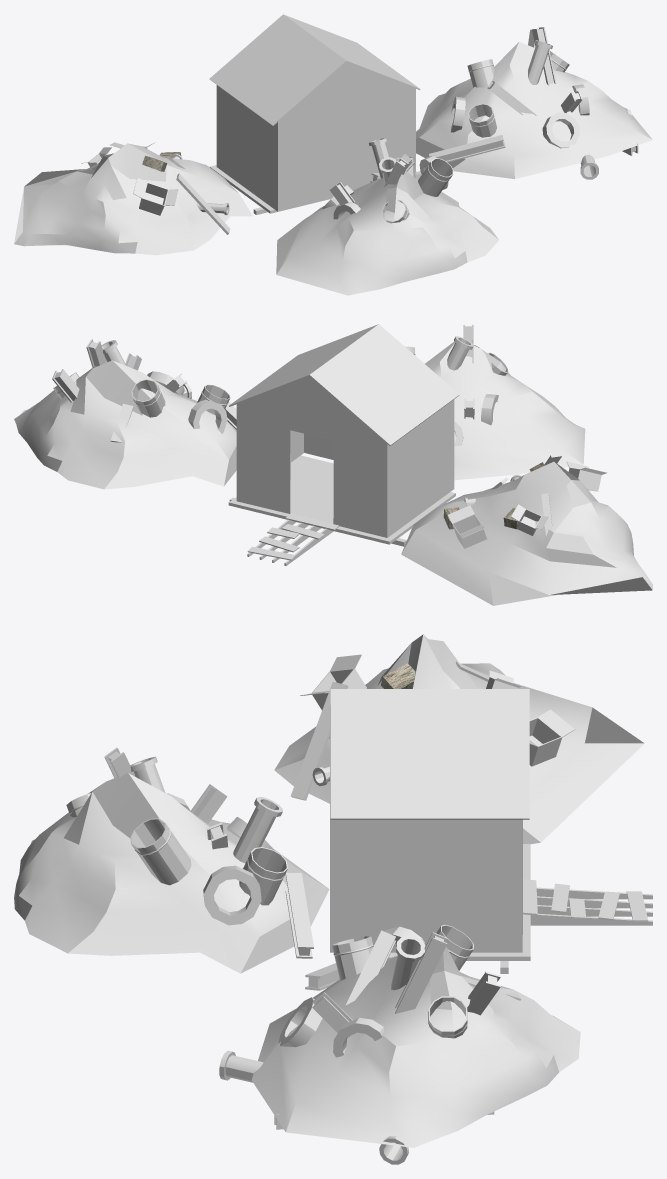
Rendered from CasaAbandonada2.fbx.
3 renders of one model, top to bottom at view 1: azimuth 30°, elevation 25°; view 2: azimuth 150°, elevation 25°; view 3: azimuth 270°, elevation 25°, orthographic. The views are drawn at different scales.
Parts seen in each view (by area): view 1: Cube.017, Cube.074, Cube.073, Cube.075, Techo, Cube.041, Cube.029, Cube.059, Cube.031, Cube.025, Cube.023, Cube.027 (+5 smaller); view 2: Cube.017, Cube.073, Cube.075, Cube.074, Techo, Cube.001, Cube.042, Cube.027, Cube.030, Cube.040, Cube.041, Cube.055 (+2 smaller); view 3: Cube.075, Cube.074, Techo, Cube.017, Cube.073, Cube.059, Cube.062, Cube.061, Cube.057, Cube.046, Cube.042, Cube.037 (+14 smaller).
Part boxes in pixels (<box>): Cube.017: <box>216,61,415,211</box>; Cube.074: <box>276,171,498,295</box>; Cube.073: <box>14,143,252,255</box>; Cube.075: <box>416,41,652,178</box>; Techo: <box>209,14,420,125</box>; Cube.041: <box>133,177,178,215</box>; Cube.029: <box>429,135,505,162</box>; Cube.059: <box>418,158,453,196</box>; Cube.031: <box>542,112,579,148</box>; Cube.025: <box>468,103,496,137</box>; Cube.023: <box>528,40,552,84</box>; Cube.027: <box>467,59,494,87</box>; Cube.017: <box>236,376,454,537</box>; Cube.073: <box>401,461,652,605</box>; Cube.075: <box>14,360,236,489</box>; Cube.074: <box>425,341,585,480</box>; Techo: <box>229,324,459,445</box>; Cube.001: <box>228,455,455,544</box>; Cube.042: <box>448,505,486,548</box>; Cube.027: <box>131,379,165,417</box>; Cube.030: <box>188,399,227,433</box>; Cube.040: <box>511,504,548,535</box>; Cube.041: <box>566,461,607,491</box>; Cube.055: <box>447,336,473,370</box>; Cube.075: <box>251,943,580,1147</box>; Cube.074: <box>14,773,329,973</box>; Techo: <box>330,689,529,819</box>; Cube.017: <box>330,704,522,952</box>; Cube.073: <box>274,634,644,844</box>; Cube.059: <box>130,818,191,885</box>; Cube.062: <box>203,865,261,925</box>; Cube.061: <box>285,872,313,958</box>; Cube.057: <box>239,847,287,905</box>; Cube.046: <box>291,681,348,800</box>; Cube.042: <box>529,709,574,766</box>; Cube.037: <box>395,932,447,1013</box>.
Bounding box in the file's own units: 6407 × 1587 × 3771.
